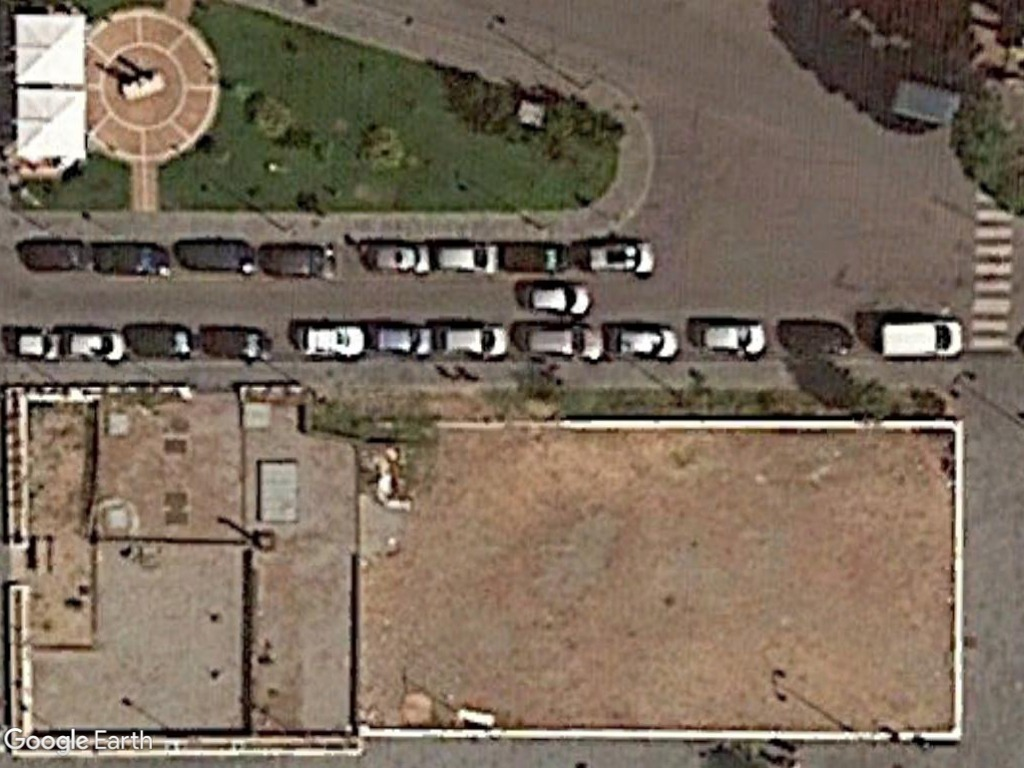car: (511, 321, 607, 364), (603, 322, 684, 363), (431, 320, 514, 360), (693, 321, 769, 359), (432, 237, 504, 277), (361, 239, 434, 278), (364, 321, 437, 358), (519, 282, 596, 317)
van: (874, 314, 964, 367)
